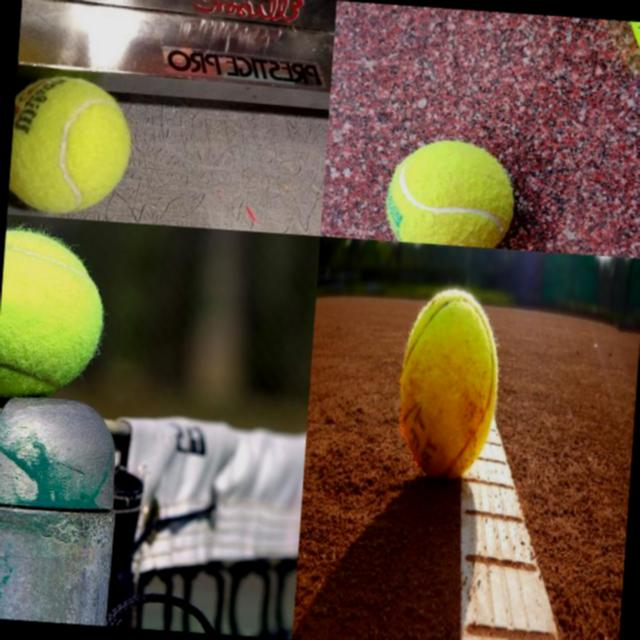Tennis Ball: (394, 286, 504, 486), (8, 72, 136, 222), (0, 228, 110, 402), (384, 134, 518, 248)
